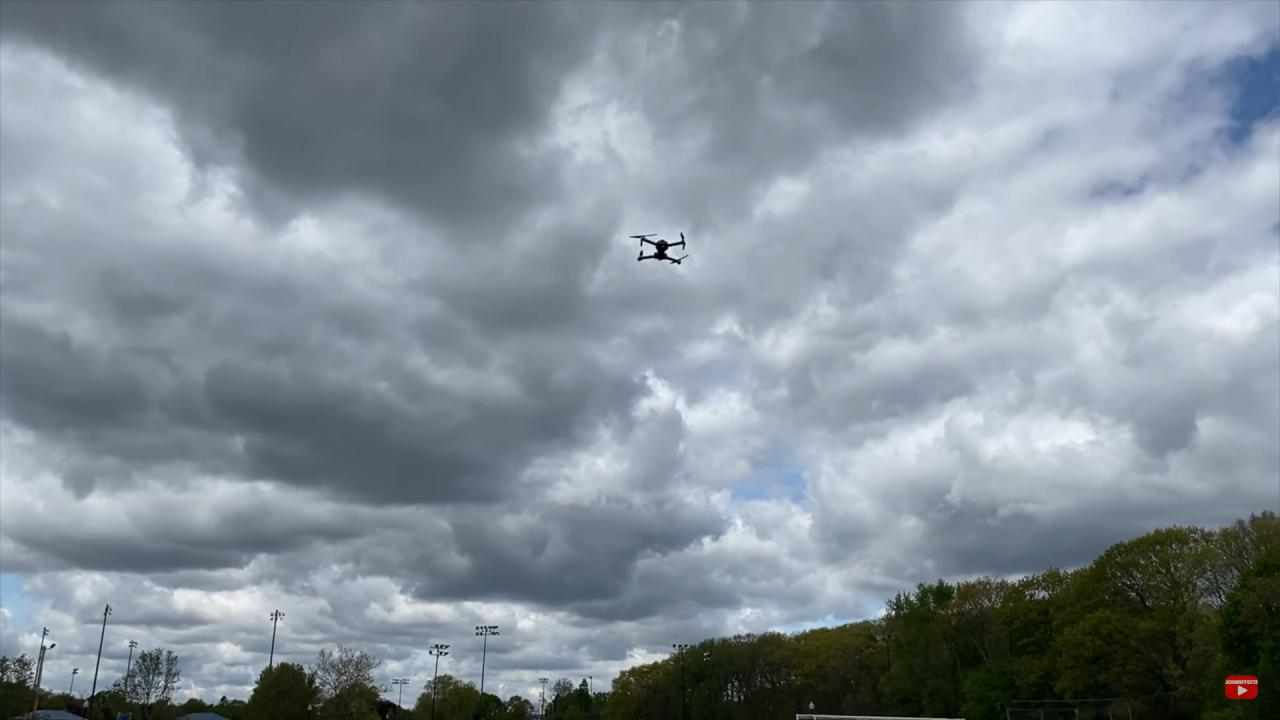Drone: (624, 220, 698, 276)
